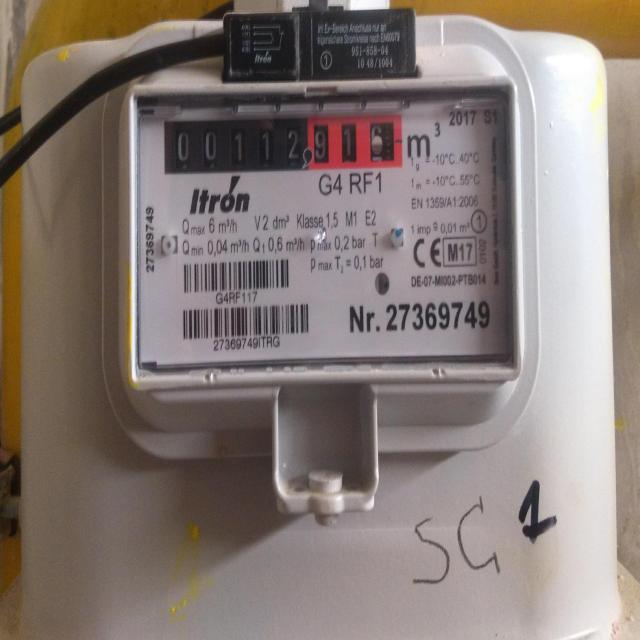gaz_meter: (133, 96, 509, 366)
indication: (165, 117, 402, 176)
